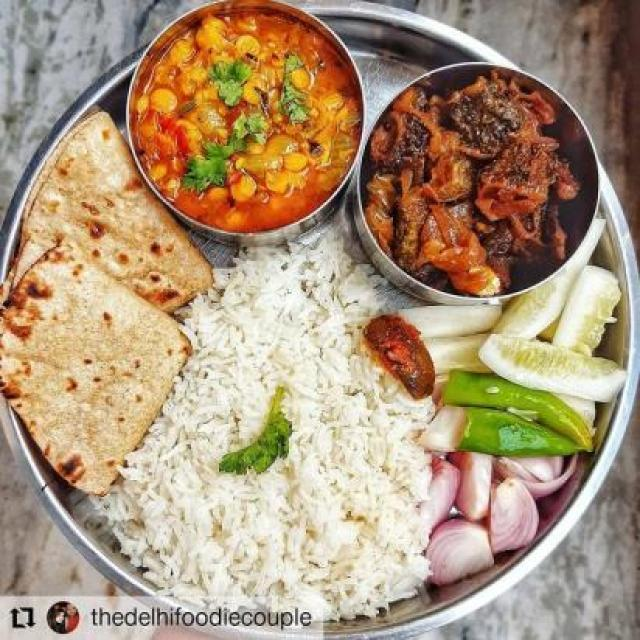Rice: (164, 262, 410, 606)
alooparatha-chapati: (8, 130, 202, 464)
dal: (130, 7, 366, 245)
